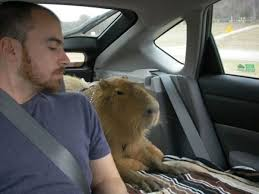capivara: (90, 75, 172, 186)
